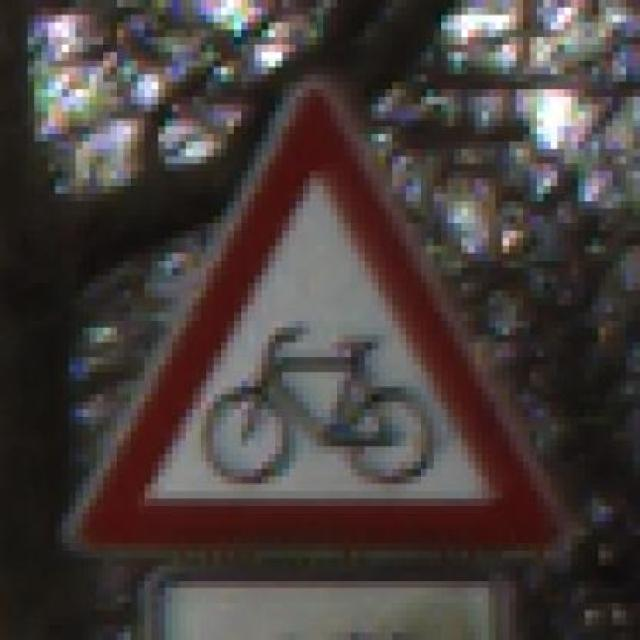CYCLE ROUTE AHEAD WARNING: (41, 59, 572, 566)
